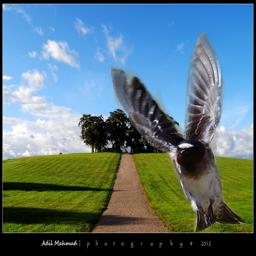Swallow: (111, 32, 247, 232)
